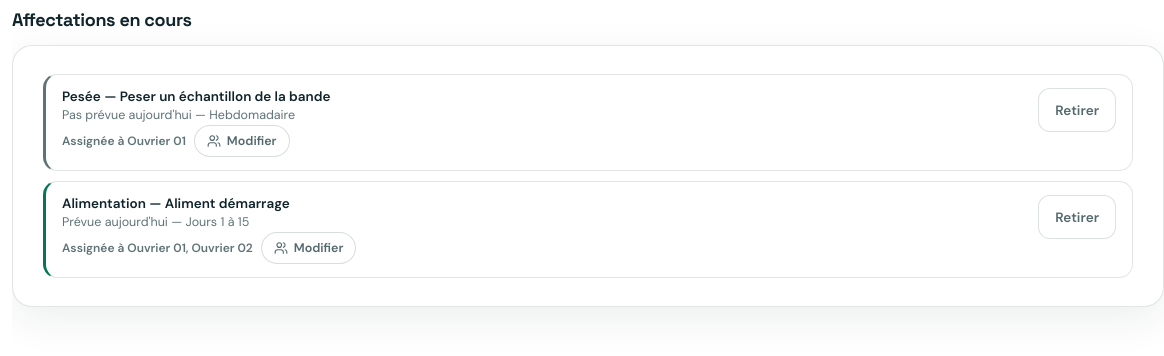
Test: AssignmentsPanel › a failed removal shows a French error instead of silently dropping the row
The image size is (1164, 356).
What coordinates should you click on to do the following:
click the button "Retirer" in the row of "Peser un échantillon de la bande"
I would click on:
 (1077, 110)
Its box is [1038,88,1116,132].
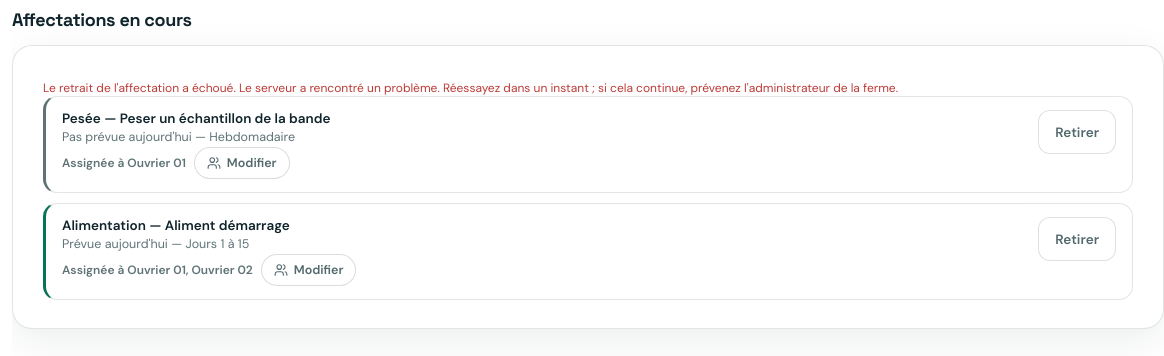
Expected: the text "Pesée — Peser un échantillon de la bande" is shown, [62,110,330,127]
Expected: the text "Le retrait de l'affectation a échoué. Le serveur a rencontré un problème" is shown, [43,80,898,96]
